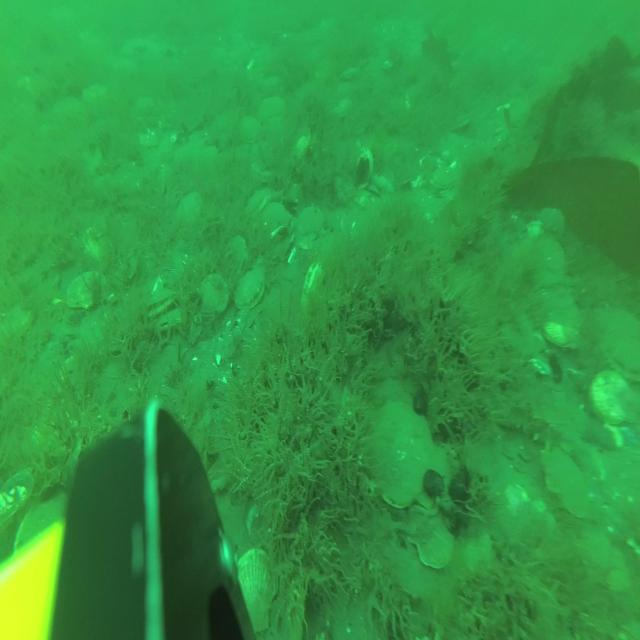holothurian: (500, 407, 560, 448)
scallop: (366, 402, 428, 512), (538, 448, 593, 521), (236, 543, 280, 634), (598, 301, 640, 385), (592, 368, 634, 434), (400, 464, 438, 536), (410, 443, 450, 508), (527, 233, 567, 290), (417, 511, 454, 571), (0, 471, 36, 527), (540, 292, 582, 336), (420, 146, 456, 196), (68, 274, 108, 318), (602, 547, 631, 598), (578, 526, 610, 568), (197, 277, 229, 317), (548, 318, 584, 353), (222, 236, 250, 279), (237, 267, 263, 313), (296, 205, 326, 242), (259, 92, 289, 127), (541, 204, 568, 241), (179, 191, 203, 231), (262, 204, 289, 238), (246, 189, 276, 219), (147, 289, 175, 320), (154, 314, 186, 341), (293, 125, 313, 162), (239, 115, 261, 148), (82, 78, 106, 107)
